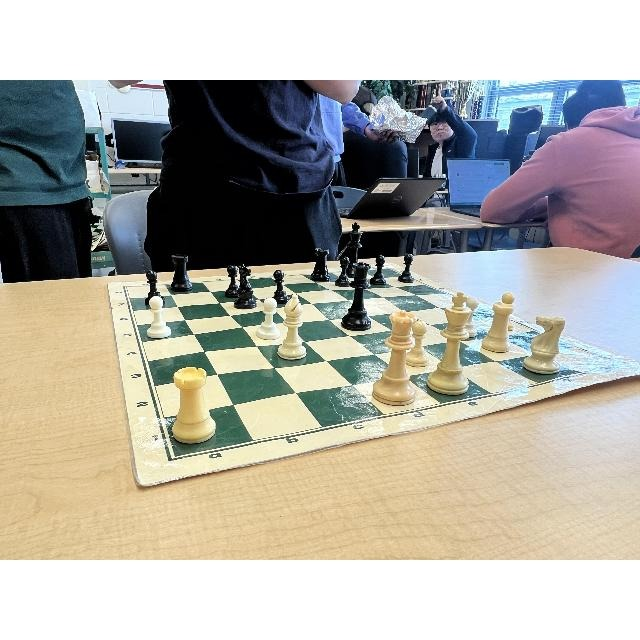black-king: (343, 220, 362, 278)
black-knight: (234, 263, 259, 309)
black-pawn: (142, 268, 165, 304), (269, 269, 289, 305), (224, 265, 242, 299), (370, 253, 388, 286), (398, 252, 416, 283), (334, 256, 351, 287)
black-queen: (340, 260, 375, 334)
black-rook: (167, 252, 195, 292), (307, 246, 333, 282)
white-bishop: (274, 293, 309, 361)
white-king: (425, 287, 474, 399)
white-knight: (521, 309, 576, 380)
white-pawn: (370, 305, 418, 407), (140, 294, 176, 340), (403, 320, 432, 368), (253, 298, 282, 340), (459, 295, 479, 336)
white-rook: (161, 360, 224, 446), (482, 301, 514, 353)
